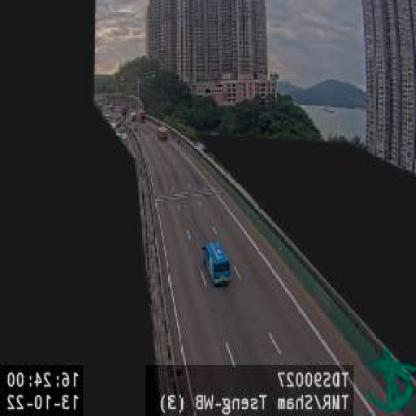Car: (201, 241, 231, 287), (156, 125, 167, 141)
